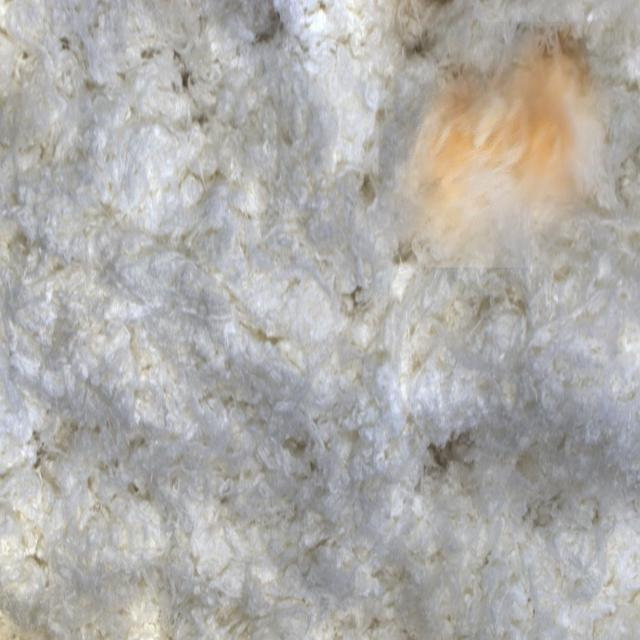dust: (379, 22, 610, 268)
